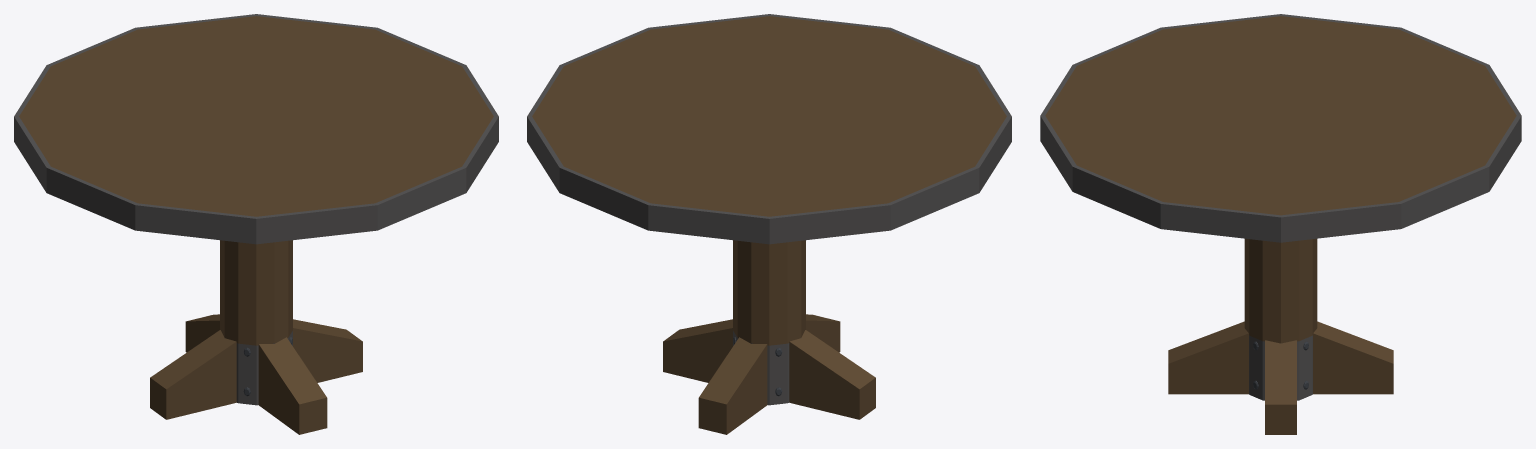
The model's file is Table_3.fbx.
3 views of the same model, side by side, from view 1: azimuth 30°, elevation 25°; view 2: azimuth 150°, elevation 25°; view 3: azimuth 270°, elevation 25° (orthographic).
Visible parts, largest first — view 1: Table_3; view 2: Table_3; view 3: Table_3.
Boxes of the visible parts, left/top/right/bottom form: Table_3: left=14, top=14, right=498, bottom=434; Table_3: left=527, top=14, right=1011, bottom=434; Table_3: left=1040, top=14, right=1521, bottom=434.
Bounding box in the file's own units: 177 × 110 × 177.
